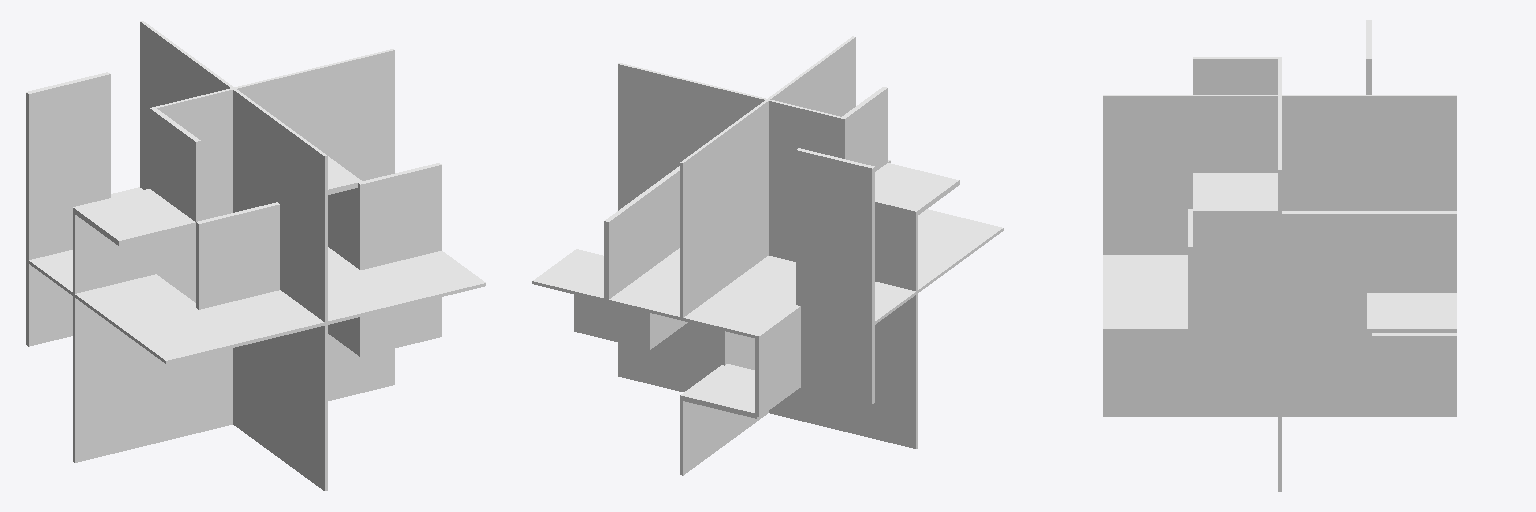
robot.urdf — track3.urdf:
<?xml version="1.0" ?>
<robot name="track3.urdf">
  <link concave="yes" name="baseLink">
    <inertial>
      <origin rpy="0 0 0" xyz="0 0 0"/>
       <mass value=".0"/>
       <inertia ixx="0" ixy="0" ixz="0" iyy="0" iyz="0" izz="0"/>
    </inertial>
    <visual>
      <origin rpy="0 0 0" xyz="0 0 0"/>
      <geometry>
				<mesh filename="track3.obj" scale="1 1 1"/>
      </geometry>
       <material name="white">
        <color rgba="1 1 1 1"/>
      </material>
    </visual>
    <collision concave="yes">
      <origin rpy="0 0 0" xyz="0 0 0"/>
     <geometry>
				<mesh filename="track3.obj" scale="1 1 1"/>
      </geometry>
    </collision>
  </link>
</robot>

--- What the picture shows (computed from the rendered views, not written in the file) ---
Views: 3 orthographic renders of the robot side by side, from view 1: azimuth 30°, elevation 25°; view 2: azimuth 150°, elevation 25°; view 3: azimuth 270°, elevation 25°.
Model track3.urdf with 1 links and 0 joints (none), rooted at baseLink, posed all joints at 0.
Links seen in each view (by area): view 1: baseLink; view 2: baseLink; view 3: baseLink.
Link boxes in pixels (x1=…): baseLink: x1=26, y1=21, x2=485, y2=490; baseLink: x1=532, y1=36, x2=1003, y2=475; baseLink: x1=1103, y1=20, x2=1456, y2=491.
Size in the robot's own frame: 5 by 5 by 5 metres.
Meshes: 1 distinct files referenced, 1 mesh visuals loaded (1 OBJ).